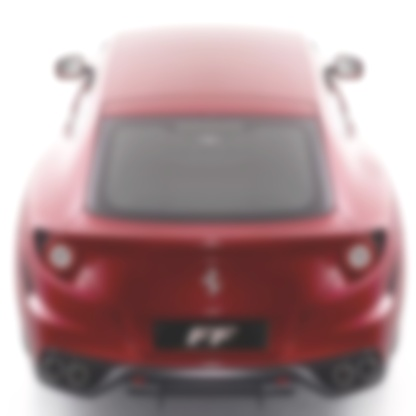Vehicle: (15, 24, 406, 414)
